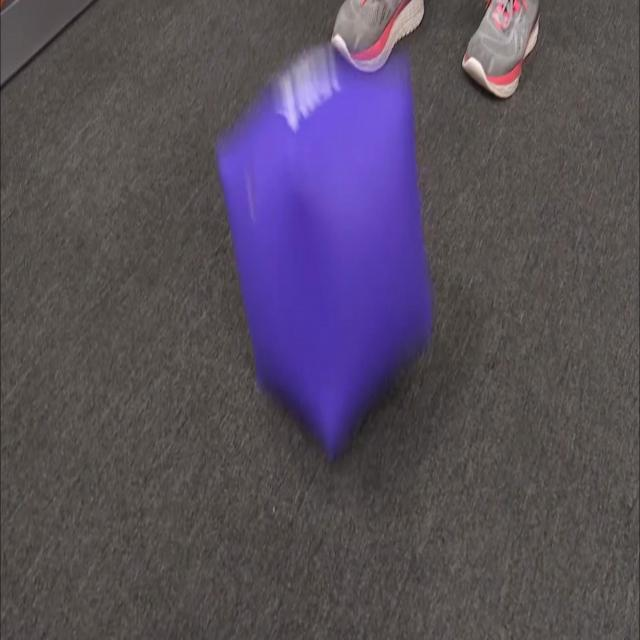frc_cube: (216, 48, 434, 459)
